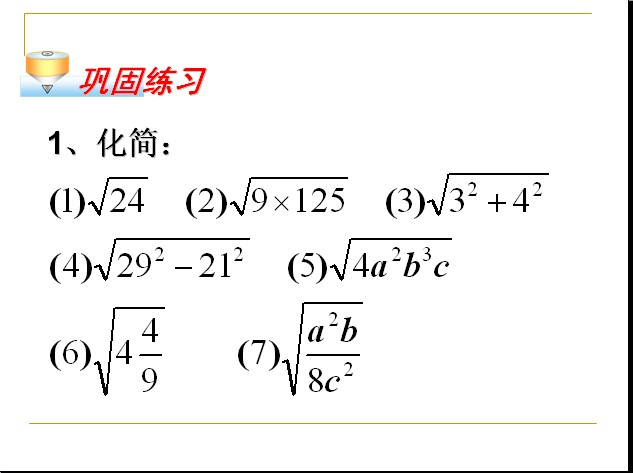cube: (421, 245, 433, 263)
division: (305, 350, 359, 359), (135, 351, 160, 359)
sqrt: (285, 298, 369, 397), (90, 237, 253, 283), (89, 305, 169, 397), (428, 166, 560, 221), (230, 171, 352, 220), (332, 237, 461, 280), (85, 169, 150, 220)
square: (466, 180, 482, 198), (230, 246, 245, 262), (532, 179, 543, 199), (154, 245, 166, 261), (389, 246, 400, 263), (327, 310, 338, 326), (342, 360, 353, 376)
